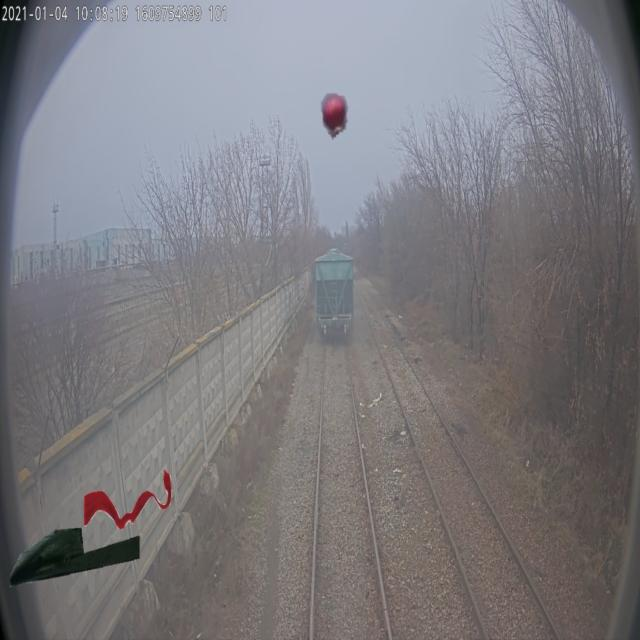balloon: (314, 88, 352, 152)
floating object: (10, 524, 140, 588), (82, 467, 172, 531)
